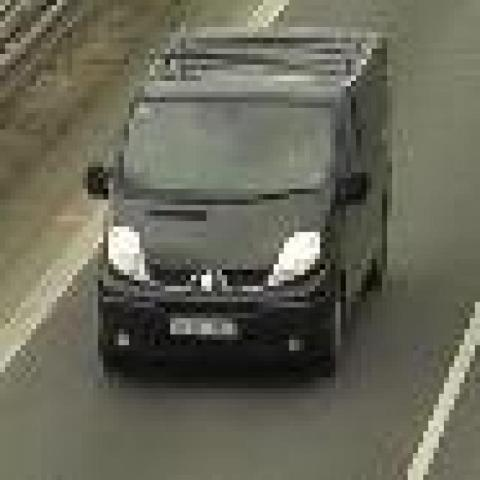van: (101, 35, 390, 380)
